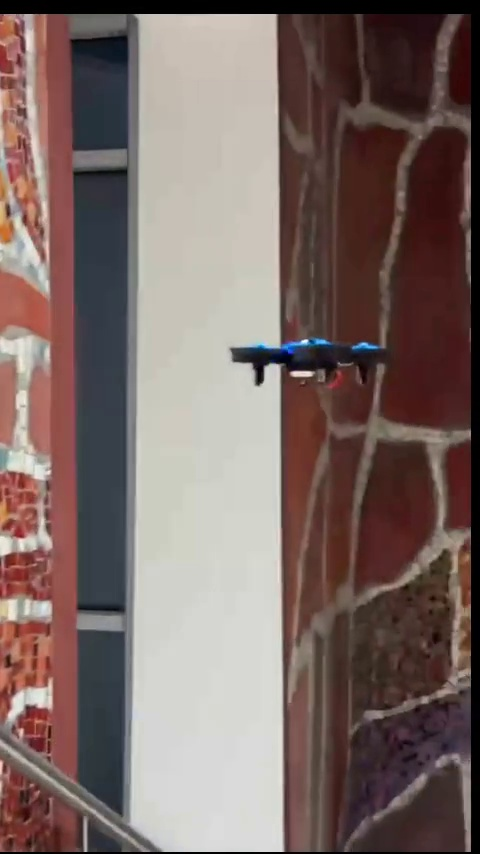drone: (236, 336, 399, 396)
